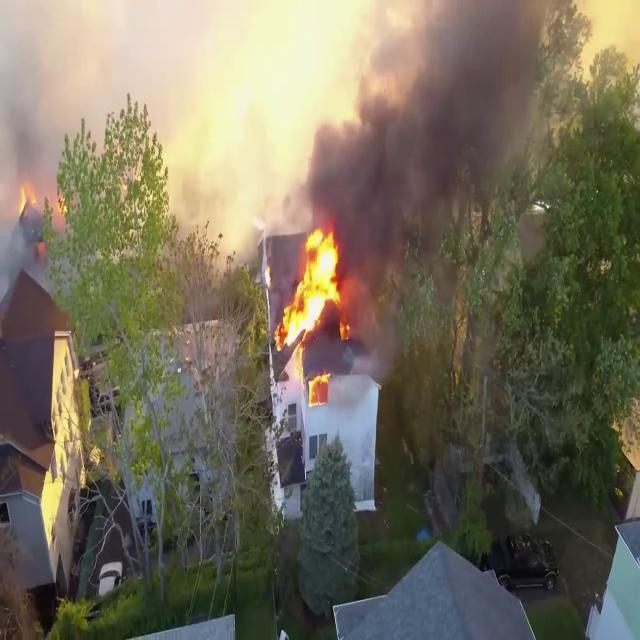Fire: (275, 221, 353, 367), (14, 172, 64, 228)
Smoke: (287, 1, 537, 241), (0, 0, 68, 285)
